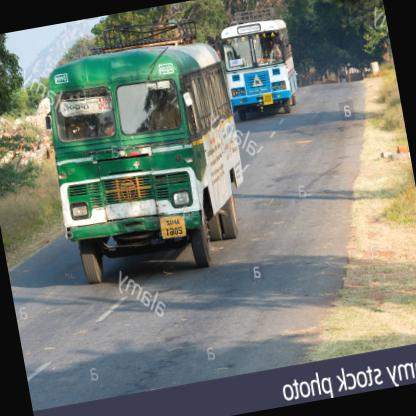bus: (106, 0, 268, 105), (251, 0, 310, 8)
